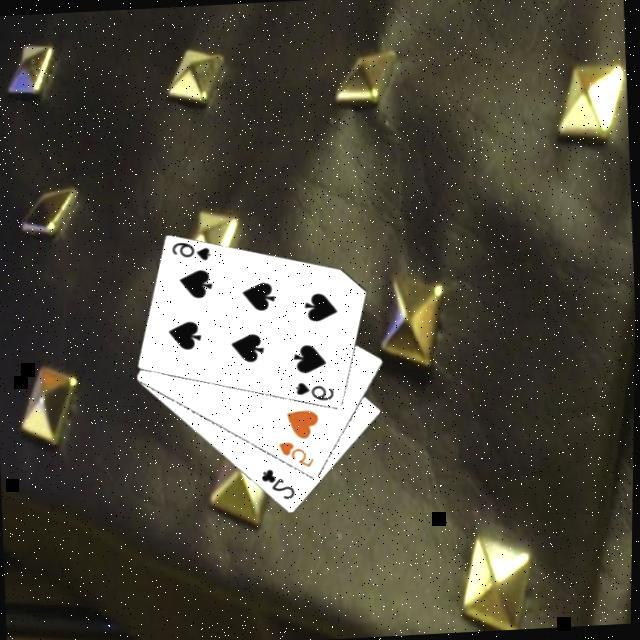2C: (261, 464, 301, 503)
5H: (279, 437, 321, 472)
6S: (171, 237, 216, 265), (294, 377, 339, 404)
